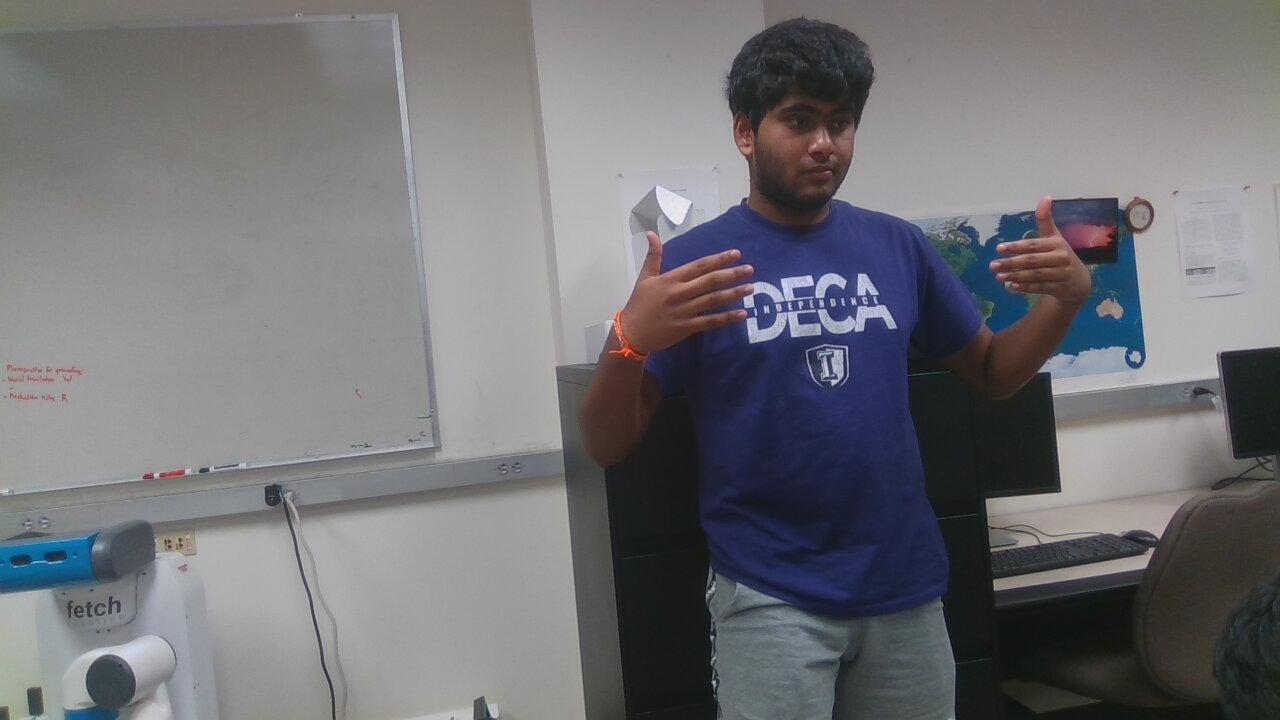hands: (613, 227, 767, 358), (991, 187, 1100, 306)
